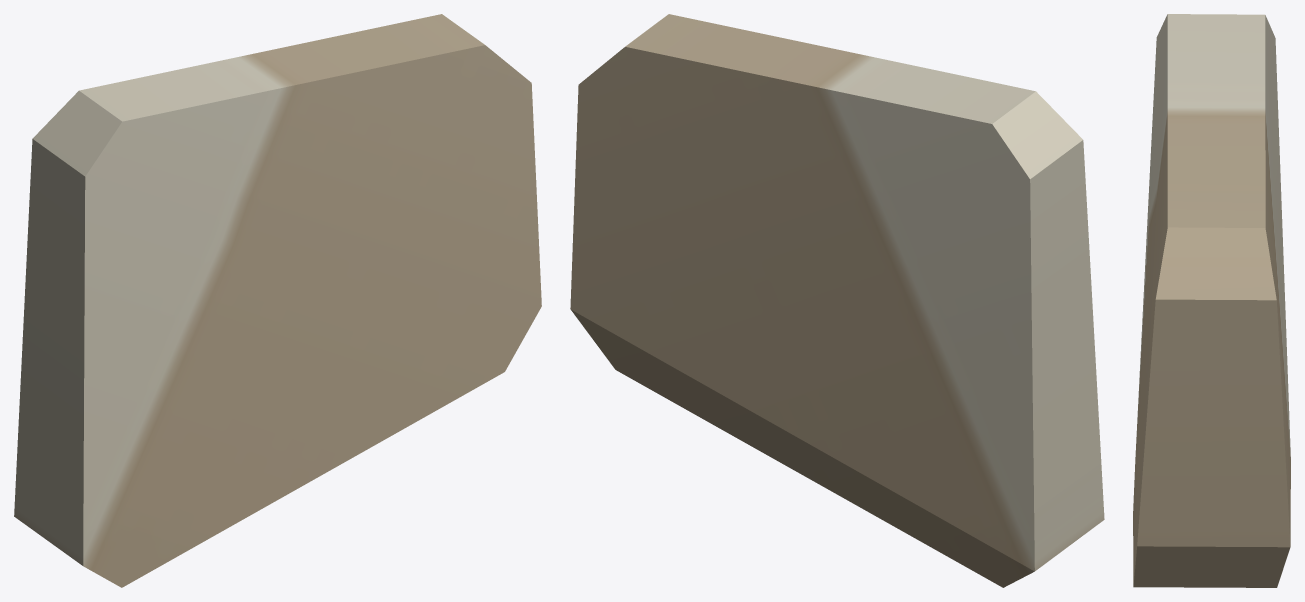
The model's file is SM_Laundry_02.fbx.
3 renders of one model, left to right at view 1: azimuth 30°, elevation 25°; view 2: azimuth 150°, elevation 25°; view 3: azimuth 270°, elevation 25°, orthographic. The views are drawn at different scales.
Parts seen in each view (by area): view 1: laundry_02; view 2: laundry_02; view 3: laundry_02.
Boxes of the visible parts, box(x1,y1,x2,y2) form: laundry_02: box(14, 14, 541, 587); laundry_02: box(570, 14, 1104, 587); laundry_02: box(1133, 14, 1290, 587).
Bounding box in the file's own units: 43.22 × 40.61 × 11.4.
